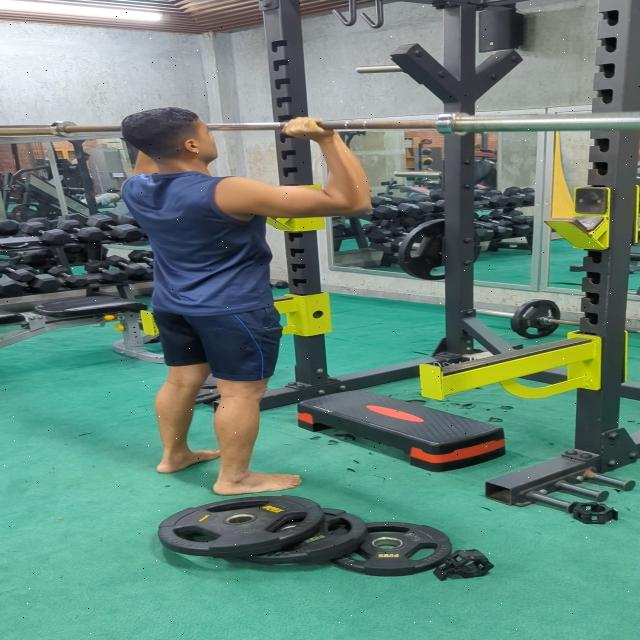Normal_OverheadPress: (110, 100, 391, 502)
